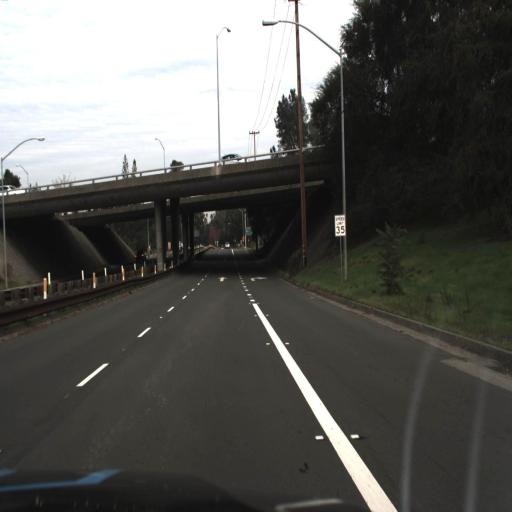car: (214, 148, 253, 172), (0, 177, 29, 200), (130, 242, 148, 265)
